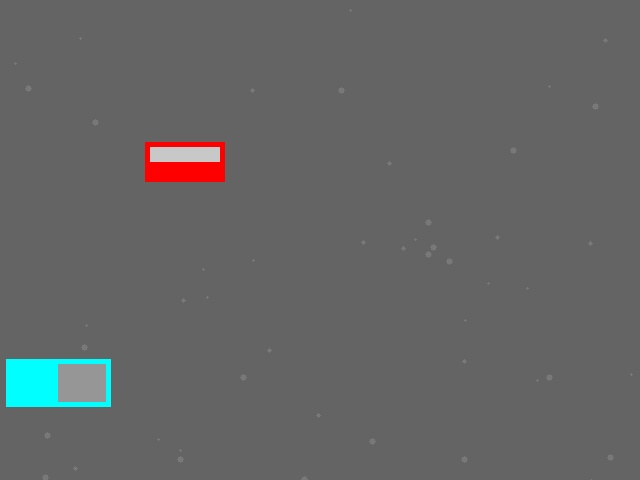car: (145, 142, 224, 181)
truck: (6, 359, 110, 406)
